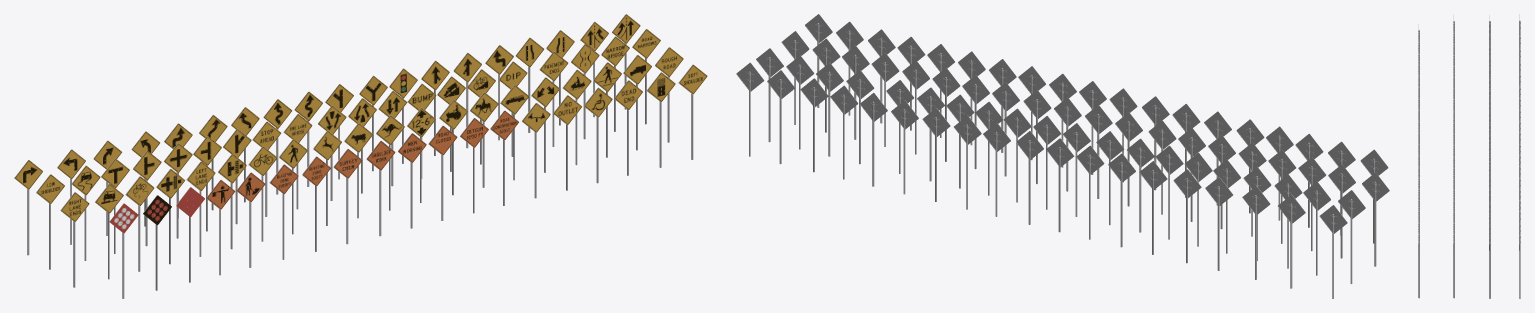
Rendered from signs_4.fbx.
The picture shows the model from 3 angles, left to right: view 1: azimuth 30°, elevation 25°; view 2: azimuth 150°, elevation 25°; view 3: azimuth 270°, elevation 25°; orthographic projection. The views are drawn at different scales.
Parts seen in each view (by area): view 1: sign_87, sign_54, sign_91, sign_84, sign_83, sign_75, sign_74, sign_56, sign_92.001, sign_85, sign_79, sign_77 (+65 smaller); view 2: sign_29, sign_36, sign_32, sign_25, sign_23, sign_21, sign_18, sign_53, sign_16, sign_54, sign_24, sign_28 (+66 smaller); view 3: sign_74, sign_73, sign_34, sign_33.
Part boxes in pixels (x1,y1,x2,y2): sign_87: (269,164,298,259); sign_54: (60,192,89,287); sign_91: (143,195,171,290); sign_84: (366,140,395,236); sign_83: (398,133,426,228); sign_75: (647,72,675,167); sign_74: (678,64,707,159); sign_56: (125,176,154,271); sign_92.001: (109,203,138,298); sign_85: (333,149,362,244); sign_79: (522,103,550,198); sign_77: (584,87,612,183); sign_29: (860,92,887,186); sign_36: (816,62,843,156); sign_32: (767,70,794,164); sign_25: (983,123,1010,216); sign_23: (1046,138,1074,232); sign_21: (1108,153,1135,247); sign_18: (1205,177,1233,270); sign_53: (1338,190,1365,283); sign_16: (1278,194,1305,288); sign_54: (1362,172,1389,266); sign_24: (1016,131,1043,224); sign_28: (891,100,918,194); sign_74: (1418,228,1419,298); sign_73: (1453,228,1454,298); sign_34: (1489,228,1490,298); sign_33: (1519,228,1520,298).
Bounding box in the file's own units: 15.18 × 2.21 × 2.93.
